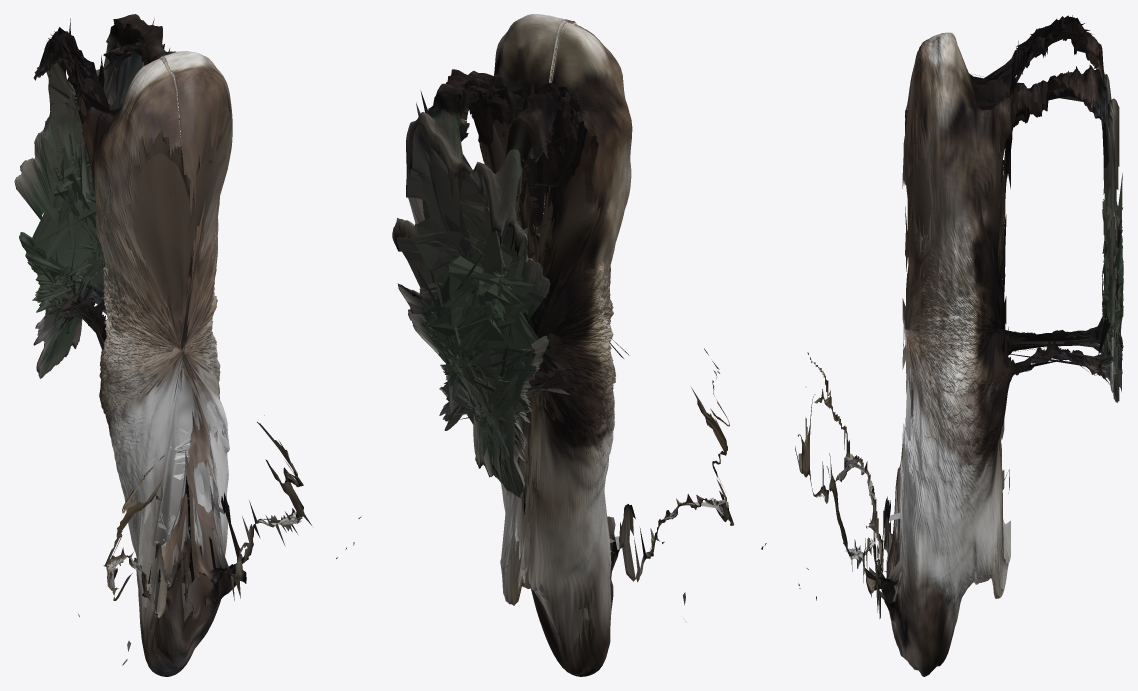
Rendered from membrane3_mesh.glb.
3 views of the same model, side by side, from view 1: azimuth 30°, elevation 25°; view 2: azimuth 150°, elevation 25°; view 3: azimuth 270°, elevation 25° (orthographic). The views are drawn at different scales.
Visible parts, largest first — view 1: ipn, fill; view 2: ipn, fill; view 3: ipn, fill.
Boxes of the visible parts, x1,y1,x2,y2 form: ipn: (14,14,360,676); fill: (32,20,302,649); ipn: (392,14,766,676); fill: (396,77,729,654); ipn: (795,15,1119,676); fill: (817,15,1123,604).
Bounding box in the file's own units: 0.8488 × 1.83 × 0.8446.
Materials: 2 (1 with a texture image).
